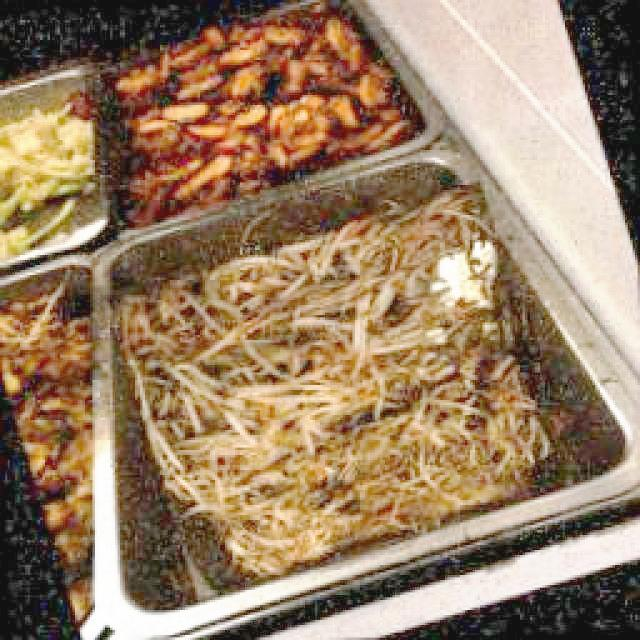mung_bean_sprouts: (126, 242, 557, 551)
